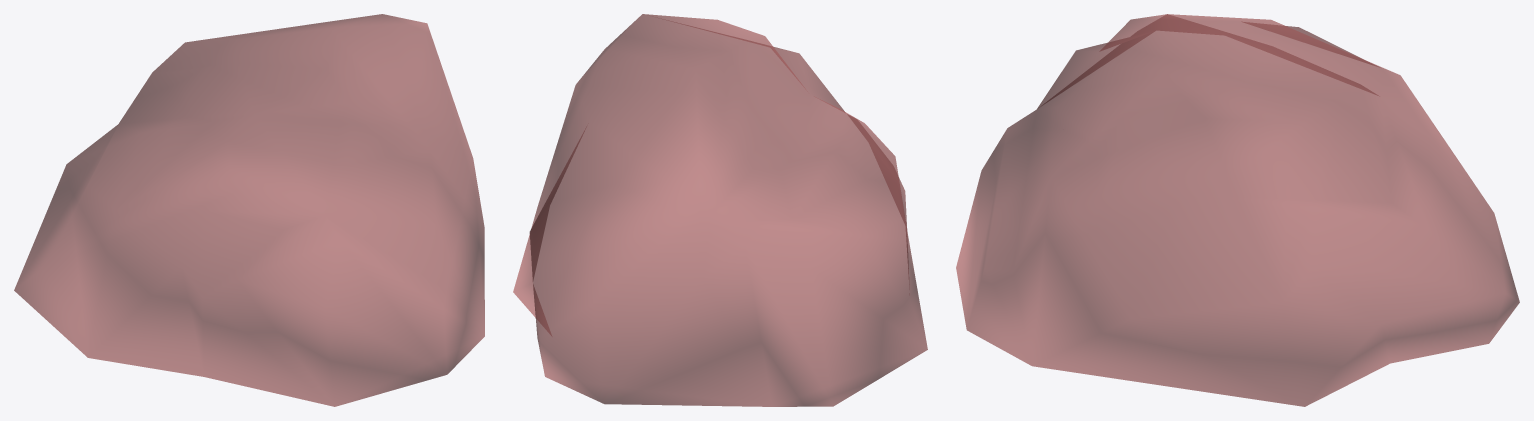
File: SM_Rock_Medium_01_Complex_Collision.fbx
3 views of the same model, side by side, from view 1: azimuth 30°, elevation 25°; view 2: azimuth 150°, elevation 25°; view 3: azimuth 270°, elevation 25° (orthographic). The views are drawn at different scales.
Visible parts, largest first — view 1: SM_Rock_Medium_01_Complex_Collision; view 2: SM_Rock_Medium_01_Complex_Collision; view 3: SM_Rock_Medium_01_Complex_Collision.
Part boxes in pixels (x1=…): SM_Rock_Medium_01_Complex_Collision: x1=14, y1=14, x2=484, y2=406; SM_Rock_Medium_01_Complex_Collision: x1=513, y1=14, x2=927, y2=406; SM_Rock_Medium_01_Complex_Collision: x1=956, y1=14, x2=1519, y2=406.
Bounding box in the file's own units: 240 × 164 × 270.
